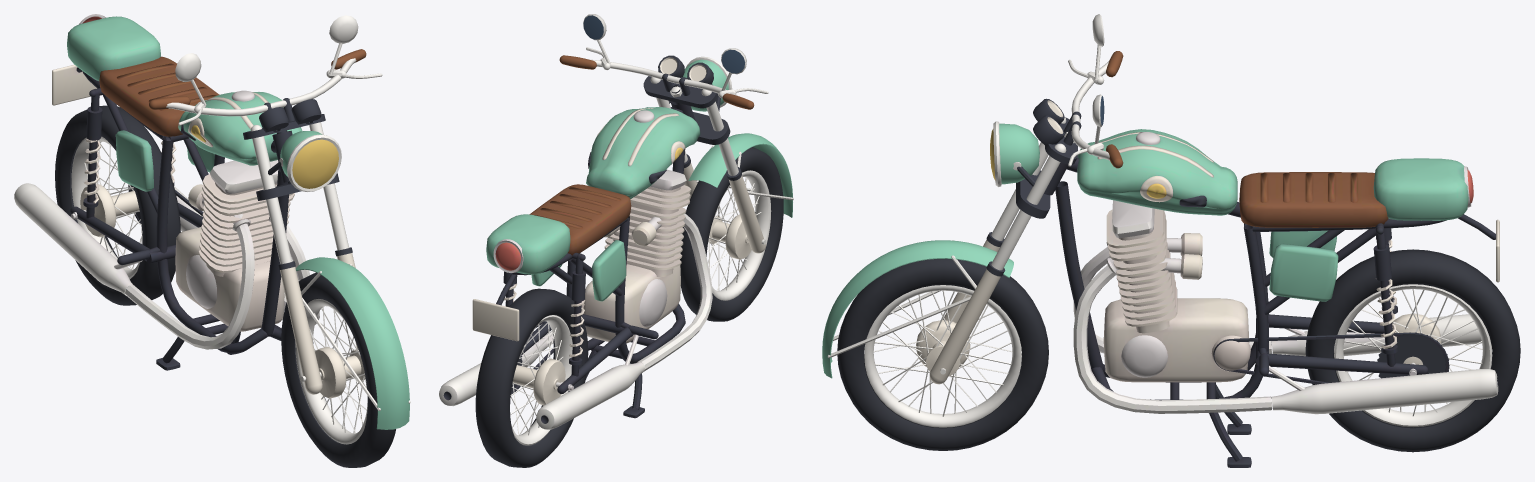
The model's file is motorcycle.glb.
The picture shows the model from 3 angles, left to right: view 1: azimuth 30°, elevation 25°; view 2: azimuth 150°, elevation 25°; view 3: azimuth 270°, elevation 25°; orthographic projection. The views are drawn at different scales.
Parts seen in each view (by area): view 1: motorcycle_body, motorcycle_steering, motorcycle_wheel_front, motorcycle_wheel_rear; view 2: motorcycle_body, motorcycle_steering, motorcycle_wheel_rear, motorcycle_wheel_front; view 3: motorcycle_body, motorcycle_wheel_front, motorcycle_wheel_rear, motorcycle_steering.
Boxes of the visible parts, x1,y1,x2,y2 form: motorcycle_body: (14, 14, 319, 370); motorcycle_steering: (149, 15, 410, 429); motorcycle_wheel_front: (281, 272, 395, 467); motorcycle_wheel_rear: (55, 105, 180, 305); motorcycle_body: (439, 101, 712, 429); motorcycle_steering: (559, 14, 793, 253); motorcycle_wheel_rear: (475, 288, 588, 467); motorcycle_wheel_front: (680, 147, 783, 321); motorcycle_body: (1044, 129, 1499, 467); motorcycle_wheel_front: (837, 258, 1048, 450); motorcycle_wheel_rear: (1305, 249, 1520, 452); motorcycle_steering: (822, 14, 1123, 384).
Bounding box in the file's own units: 0.7964 × 1.31 × 2.11.
17 materials, 1 textured.
